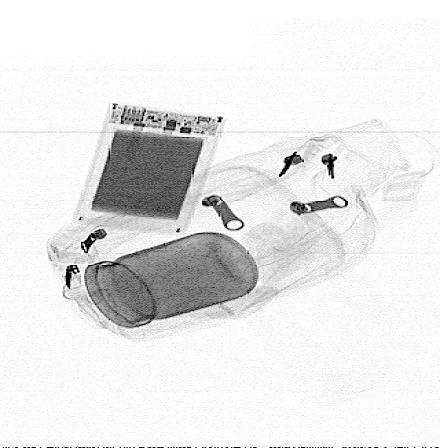Powerbank: (73, 102, 229, 235)
